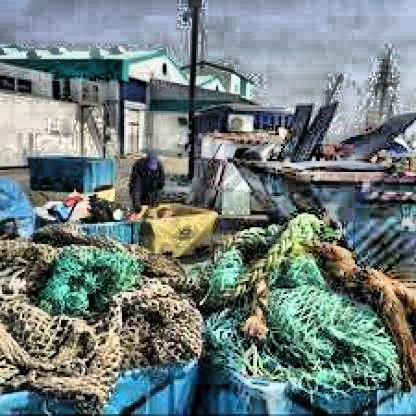Fishing wastes: (221, 233, 415, 387), (0, 242, 189, 388)
